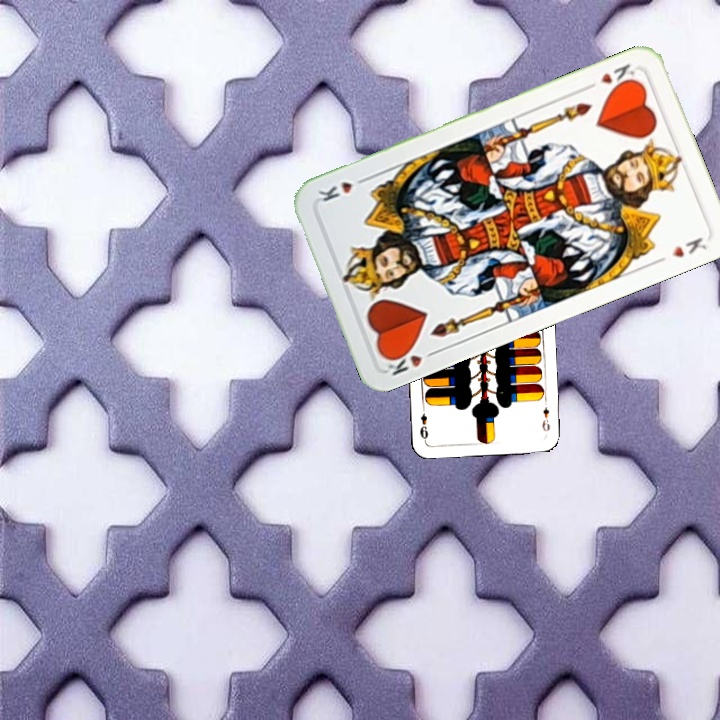E9: (538, 403, 552, 434)
HK: (380, 343, 440, 379), (582, 59, 639, 93)
